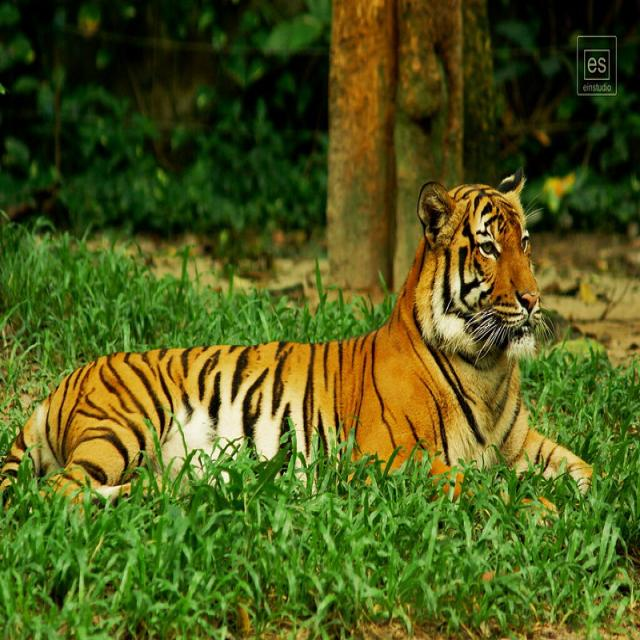Tiger: (0, 162, 617, 529)
